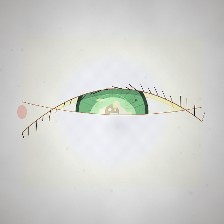corneal_ulcer: (88, 98, 138, 138)
